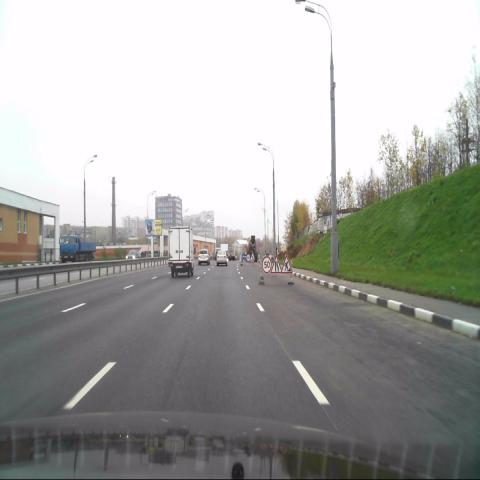1_20_2: (271, 255, 281, 274)
1_25: (282, 255, 292, 274)
3_24: (261, 255, 272, 273)
